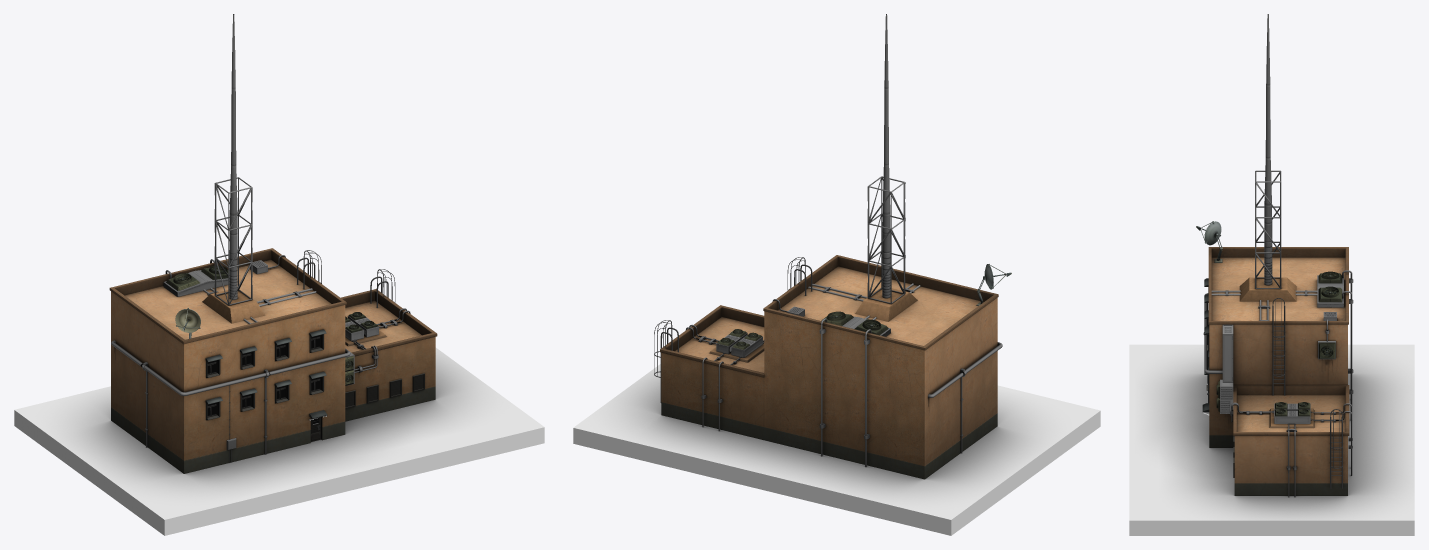
The model's file is building2.glb.
3 renders of one model, left to right at view 1: azimuth 30°, elevation 25°; view 2: azimuth 150°, elevation 25°; view 3: azimuth 270°, elevation 25°, orthographic. The views are drawn at different scales.
Parts seen in each view (by area): view 1: Plane, Plane.020, Plane.022; view 2: Plane, Plane.020, Plane.022; view 3: Plane.020, Plane, Plane.022, Circle.003, Circle.011, Plane.014.
Boxes of the visible parts, bbox=[...] form: Plane: bbox=[109, 248, 437, 473]; Plane.020: bbox=[14, 347, 544, 535]; Plane.022: bbox=[111, 14, 410, 462]; Plane: bbox=[660, 255, 998, 479]; Plane.020: bbox=[573, 364, 1100, 535]; Plane.022: bbox=[685, 14, 1002, 467]; Plane.020: bbox=[1129, 344, 1414, 535]; Plane: bbox=[1202, 247, 1349, 495]; Plane.022: bbox=[1203, 14, 1353, 497]; Circle.003: bbox=[1196, 221, 1222, 262]; Circle.011: bbox=[1318, 286, 1341, 302]; Plane.014: bbox=[1272, 324, 1285, 365].
Bounding box in the file's own units: 33 × 35.96 × 22.62.
Materials: 15 (13 with a texture image).
